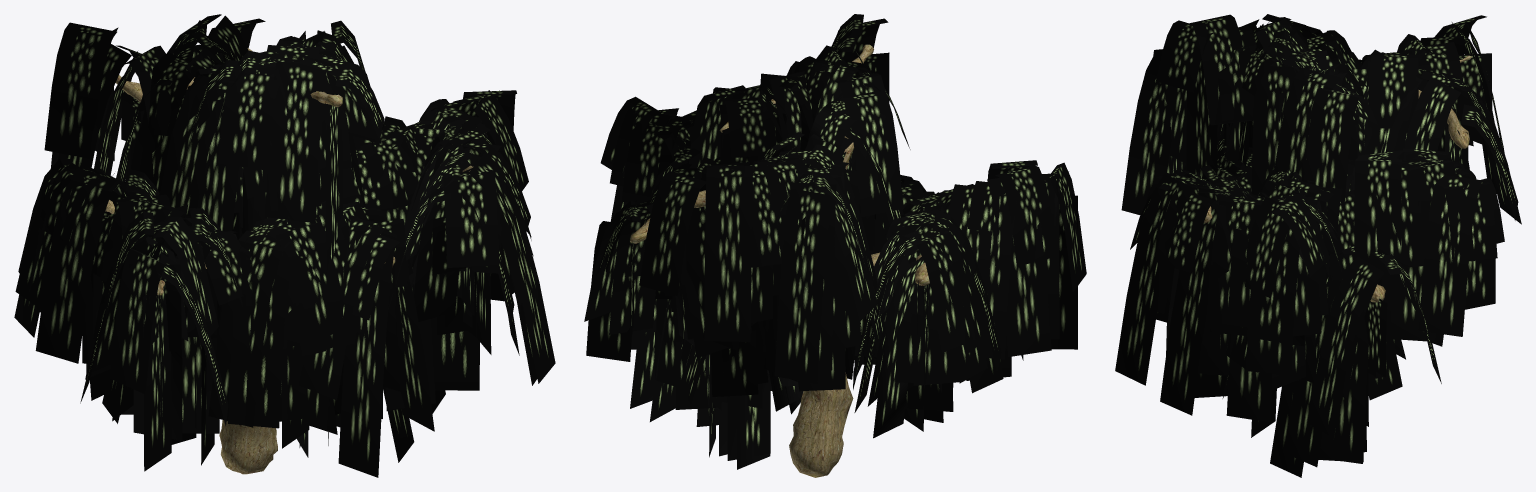
Rendered from st_tree.gltf.
The picture shows the model from 3 angles, left to right: view 1: azimuth 30°, elevation 25°; view 2: azimuth 150°, elevation 25°; view 3: azimuth 270°, elevation 25°; orthographic projection. The views are drawn at different scales.
Visible parts, largest first — view 1: Leaves, Tree; view 2: Leaves, Tree; view 3: Leaves, Tree.
Boxes of the visible parts, x1,y1,x2,y2 form: Leaves: [14, 14, 555, 477]; Tree: [105, 48, 486, 474]; Leaves: [584, 14, 1086, 469]; Tree: [630, 44, 929, 477]; Leaves: [1115, 14, 1521, 477]; Tree: [1204, 55, 1471, 302].
Size of the model in its own units: 62.23 by 57.85 by 52.31.
Materials: 2 (2 with a texture image).
